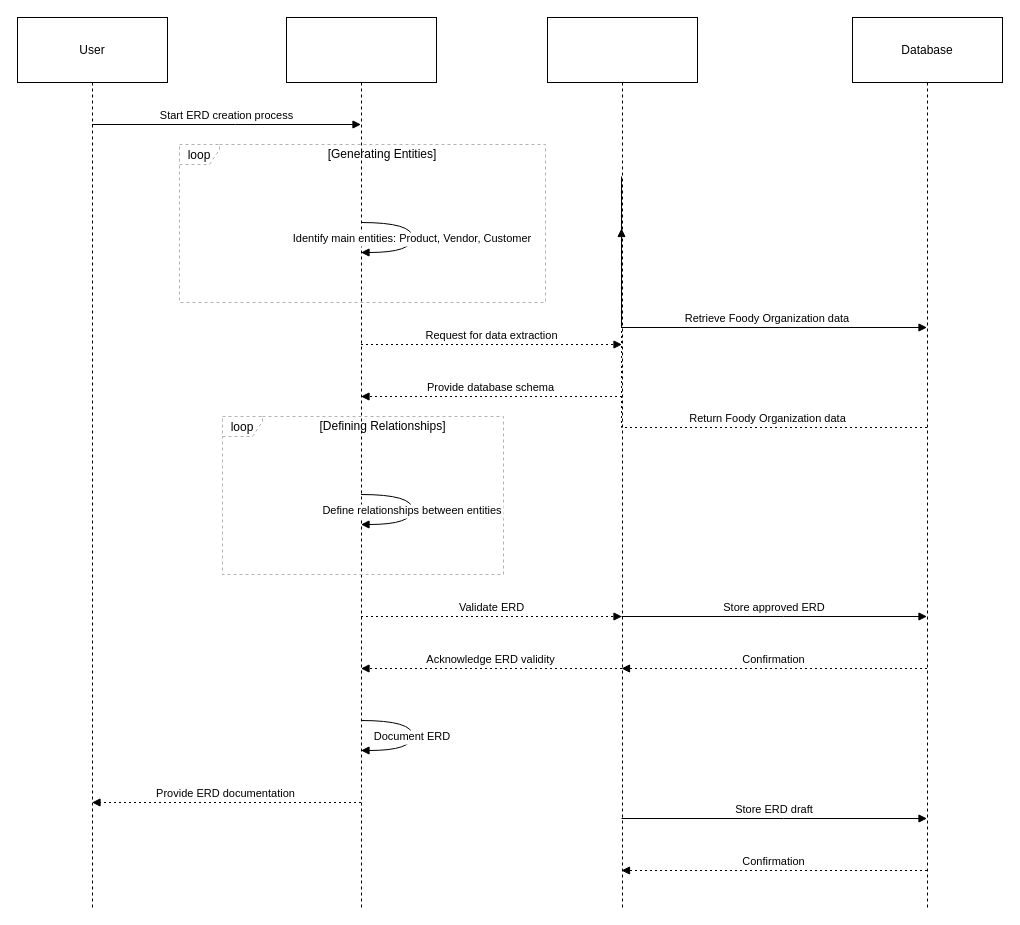
Image size: 1020x925. Some labels were removed from this diagram. The box of each missing label's shape, as (x1, y1, x2, y2) in pixels:
Application: (286, 16, 436, 908)
Server: (546, 16, 698, 908)
